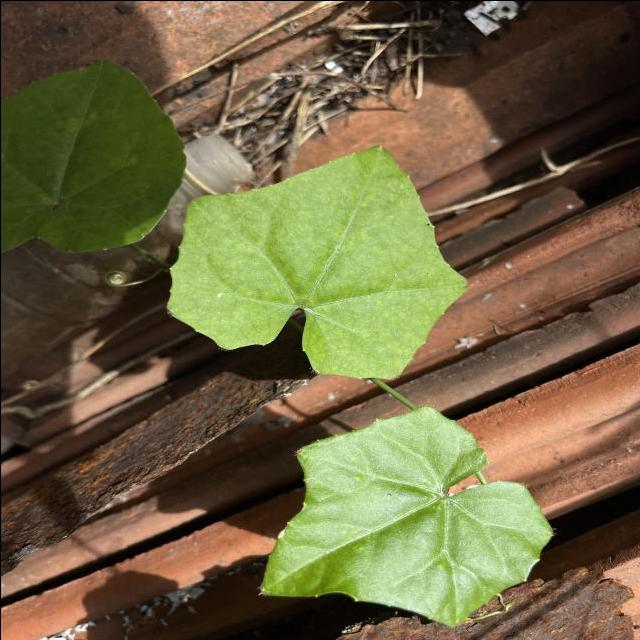Coccinia grandis: (164, 140, 472, 380), (255, 404, 555, 628)
